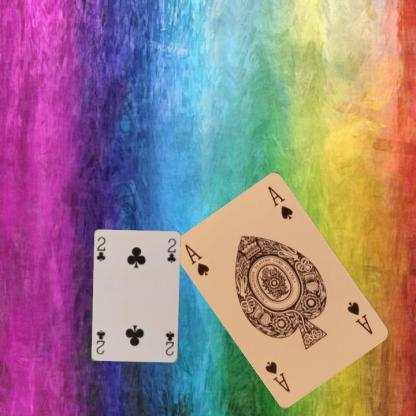2c: (94, 234, 107, 263), (164, 329, 176, 356)
As: (344, 298, 374, 336), (182, 240, 211, 278)
